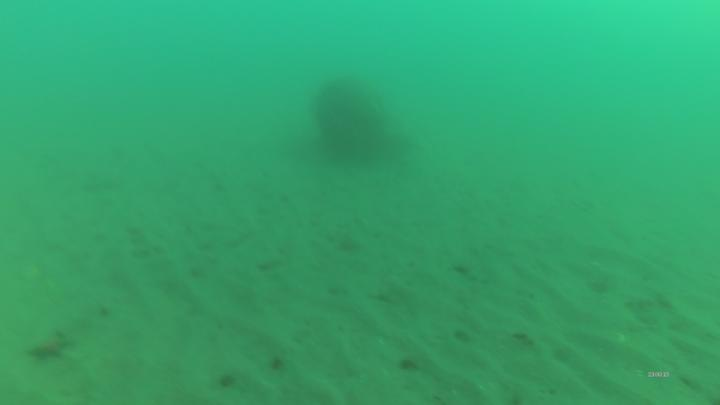starfish: (28, 337, 68, 363)
